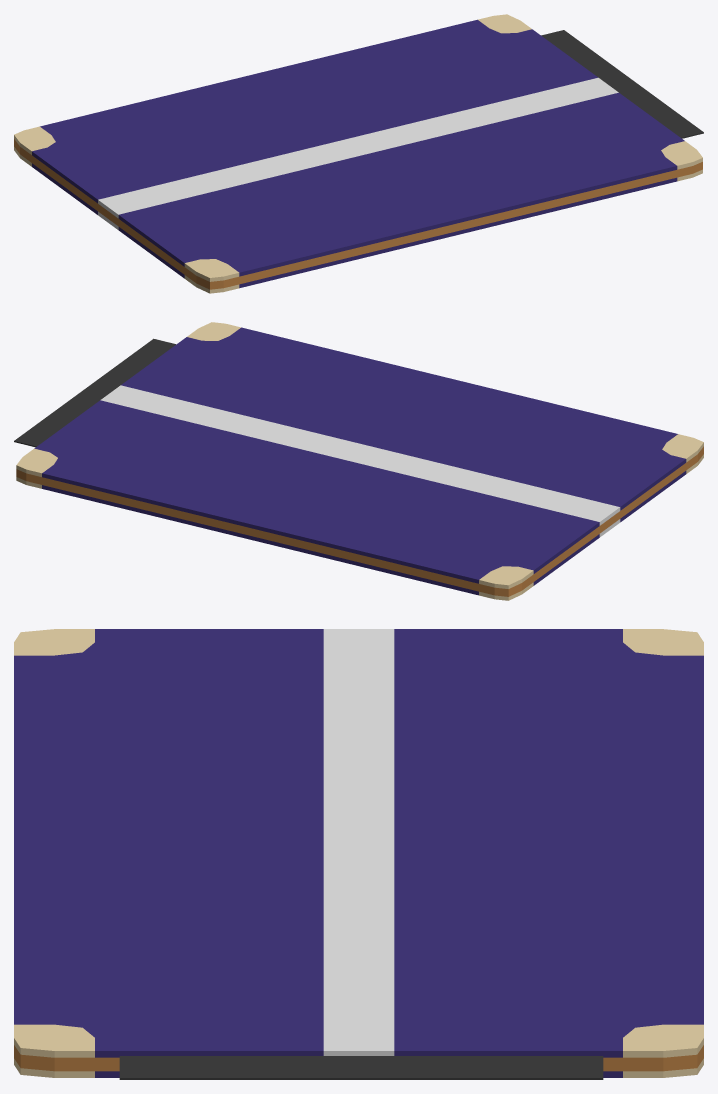
Rendered from Kleine Mat.fbx.
3 renders of one model, top to bottom at view 1: azimuth 30°, elevation 25°; view 2: azimuth 150°, elevation 25°; view 3: azimuth 270°, elevation 25°, orthographic. The views are drawn at different scales.
Parts seen in each view (by area): view 1: Kubus.002; view 2: Kubus.002; view 3: Kubus.002.
Boxes of the visible parts, x1=… form: Kubus.002: x1=14, y1=14, x2=703, y2=293; Kubus.002: x1=14, y1=322, x2=703, y2=600; Kubus.002: x1=14, y1=629, x2=703, y2=1079.
Bounding box in the file's own units: 2.1 × 0.0596 × 1.38.
